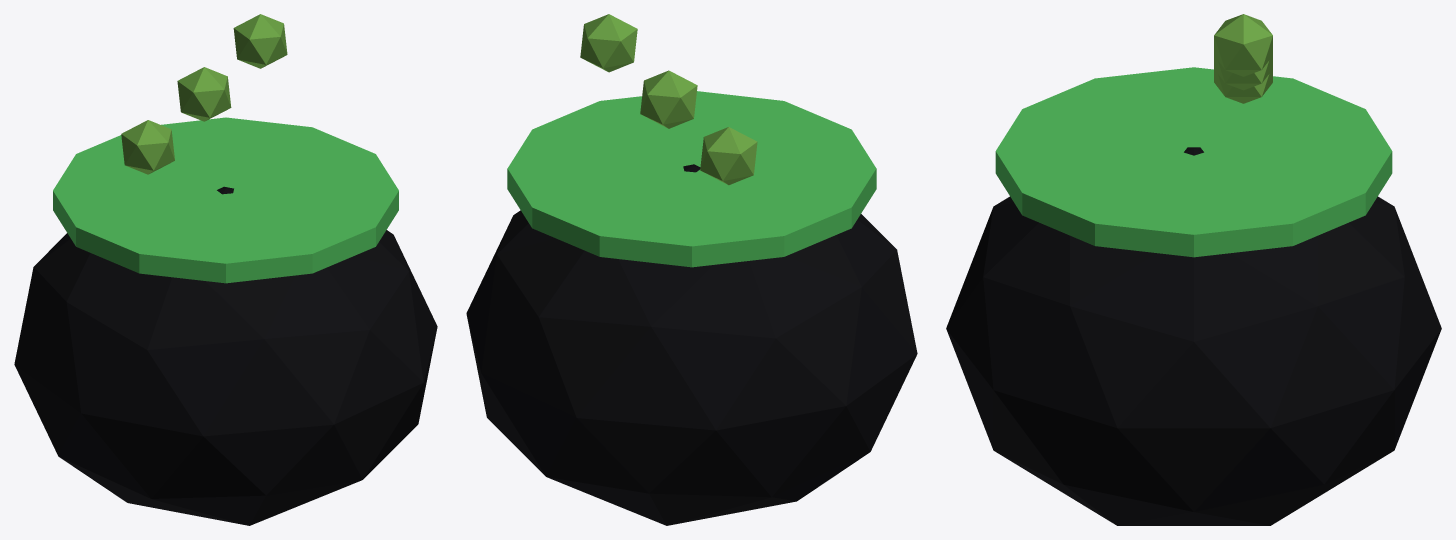
File: SM_GZ_tool_cauldron.fbx
3 views of the same model, side by side, from view 1: azimuth 30°, elevation 25°; view 2: azimuth 150°, elevation 25°; view 3: azimuth 270°, elevation 25° (orthographic). The views are drawn at different scales.
Visible parts, largest first — view 1: SM_GZ_tool_cauldron; view 2: SM_GZ_tool_cauldron; view 3: SM_GZ_tool_cauldron.
Part boxes in pixels (x1=…): SM_GZ_tool_cauldron: x1=14, y1=14, x2=437, y2=525; SM_GZ_tool_cauldron: x1=466, y1=14, x2=917, y2=525; SM_GZ_tool_cauldron: x1=946, y1=14, x2=1441, y2=525.
Bounding box in the file's own units: 95.11 × 117 × 100.
